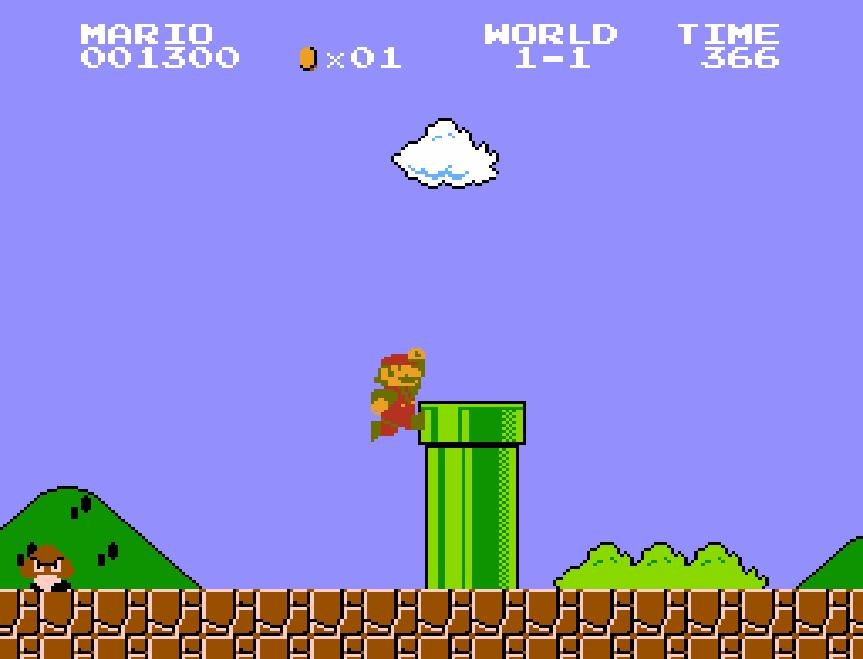big_mario: (372, 346, 430, 444)
